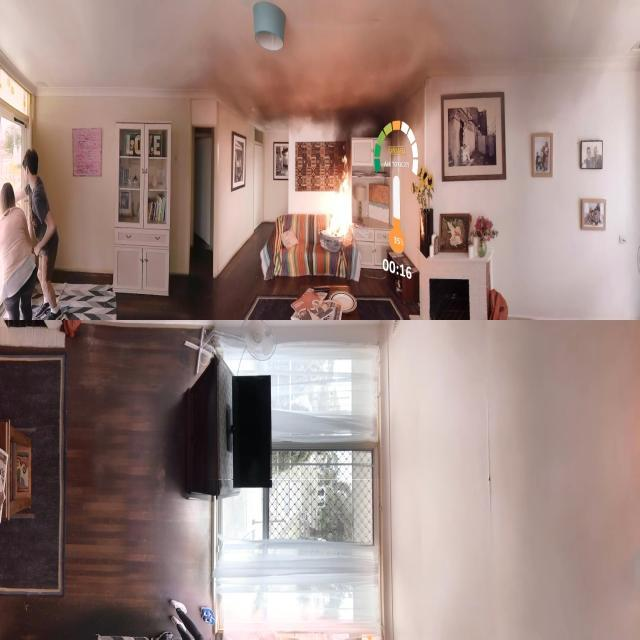Fire: (288, 53, 391, 301)
